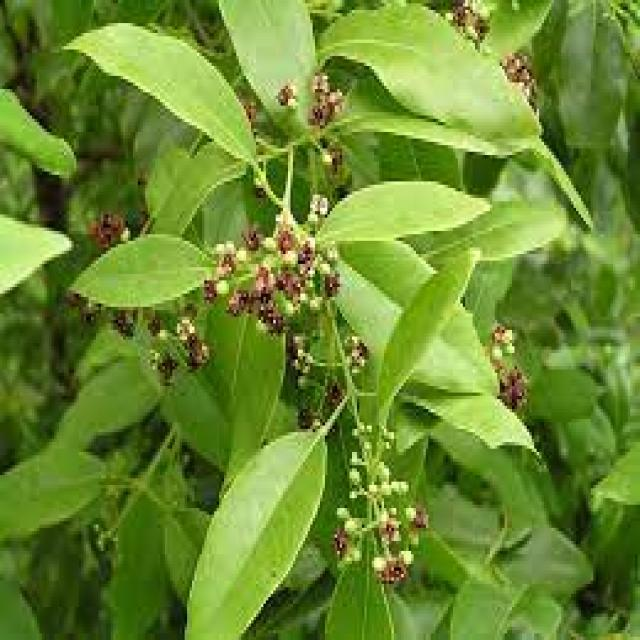Medicinal-Sandalwood: (33, 0, 640, 639)
